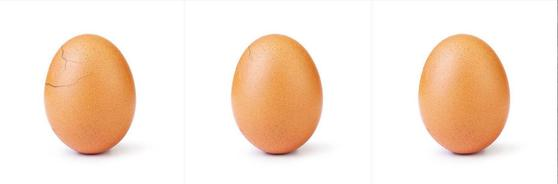egg: (230, 37, 324, 161), (44, 36, 138, 159), (418, 33, 511, 156)
